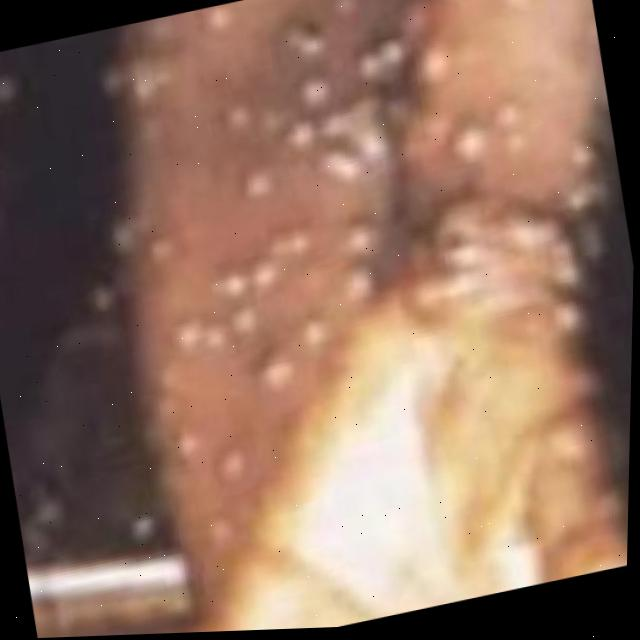Eczema: (21, 0, 622, 581)
